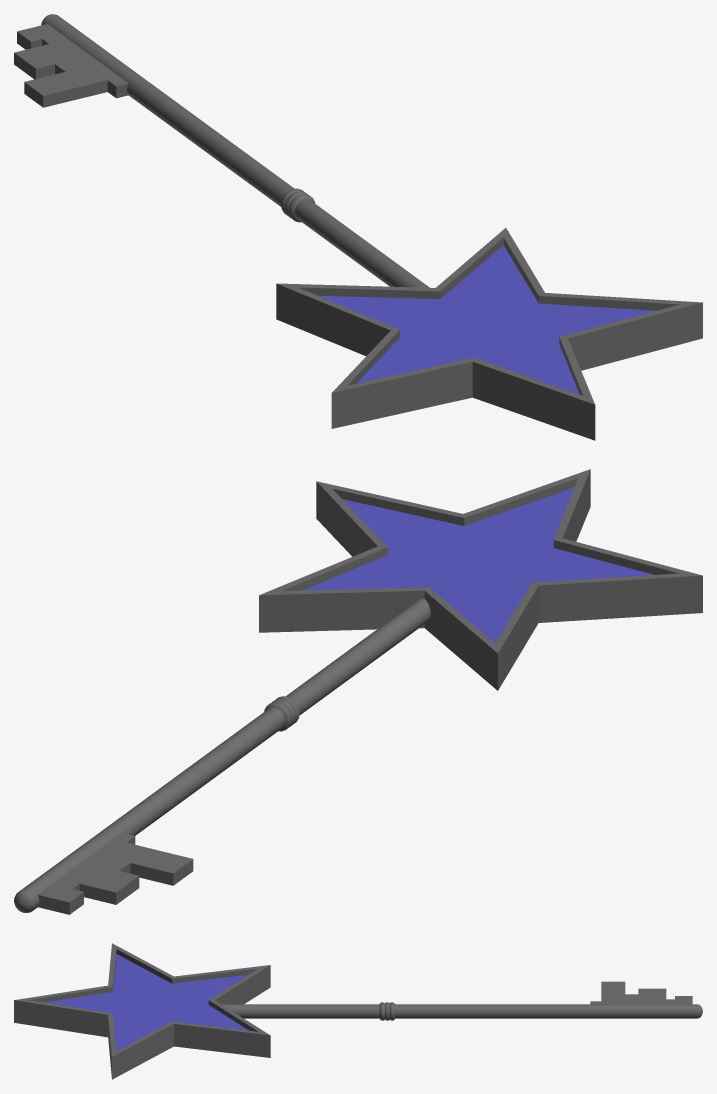
File: ClefEtoileTextInventory.fbx
The picture shows the model from 3 angles, top to bottom: view 1: azimuth 30°, elevation 25°; view 2: azimuth 150°, elevation 25°; view 3: azimuth 270°, elevation 25°; orthographic projection. The views are drawn at different scales.
Parts seen in each view (by area): view 1: Clef_Etoile; view 2: Clef_Etoile; view 3: Clef_Etoile.
Part boxes in pixels (<box>): Clef_Etoile: <box>14,14,702,440</box>; Clef_Etoile: <box>14,469,702,914</box>; Clef_Etoile: <box>14,943,702,1079</box>.
Size of the model in its own units: 15.12 by 1.4 by 38.63.
